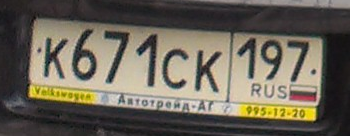character: (103, 27, 131, 87), (72, 27, 99, 84), (135, 28, 159, 88), (194, 47, 221, 95), (41, 35, 68, 81), (286, 36, 310, 87), (162, 47, 190, 90), (260, 36, 283, 84), (236, 35, 259, 81)
